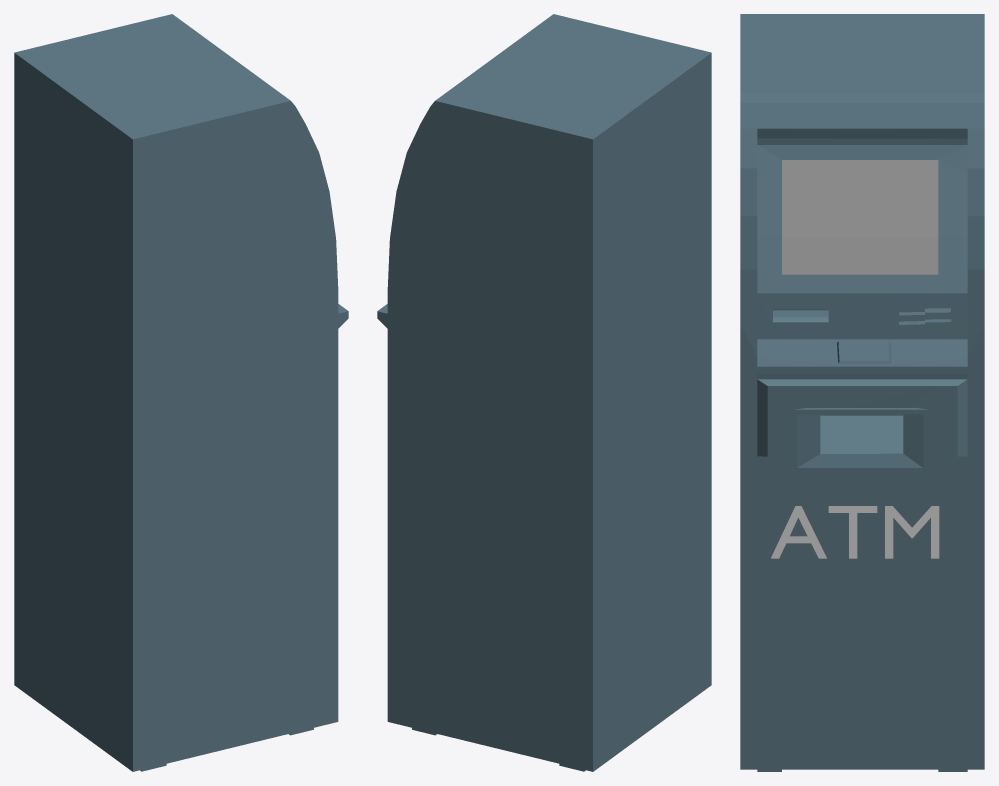
File: Atm.fbx
3 views of the same model, side by side, from view 1: azimuth 30°, elevation 25°; view 2: azimuth 150°, elevation 25°; view 3: azimuth 270°, elevation 25° (orthographic). The views are drawn at different scales.
Parts seen in each view (by area): view 1: atm1; view 2: atm1; view 3: atm1, writing atm.
Part boxes in pixels (box(x1,y1,x2,y2)): atm1: box(14, 14, 348, 771); atm1: box(377, 14, 711, 771); atm1: box(740, 14, 984, 771); writing atm: box(771, 506, 939, 558).
Bounding box in the file's own units: 521 × 1426 × 477.
